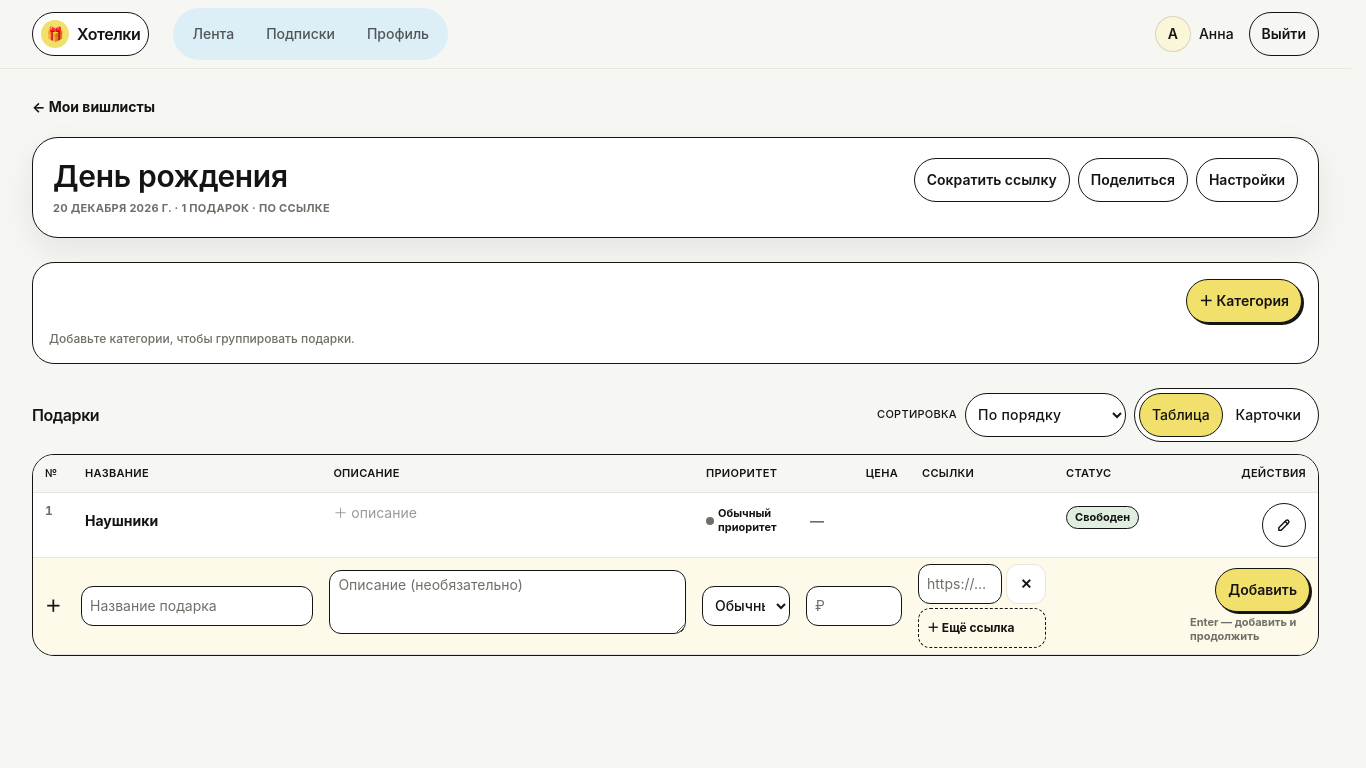
it: иконка редактирования и модалка › удаляет подарок из модалки с подтверждением
This screenshot has width=1366, height=768.
Expected: the text "Наушники" is shown, 85,511 -> 158,531
Click the button named "Редактировать подарок" at (1284, 525), box 1262,503 -> 1306,547
(page scrolled)
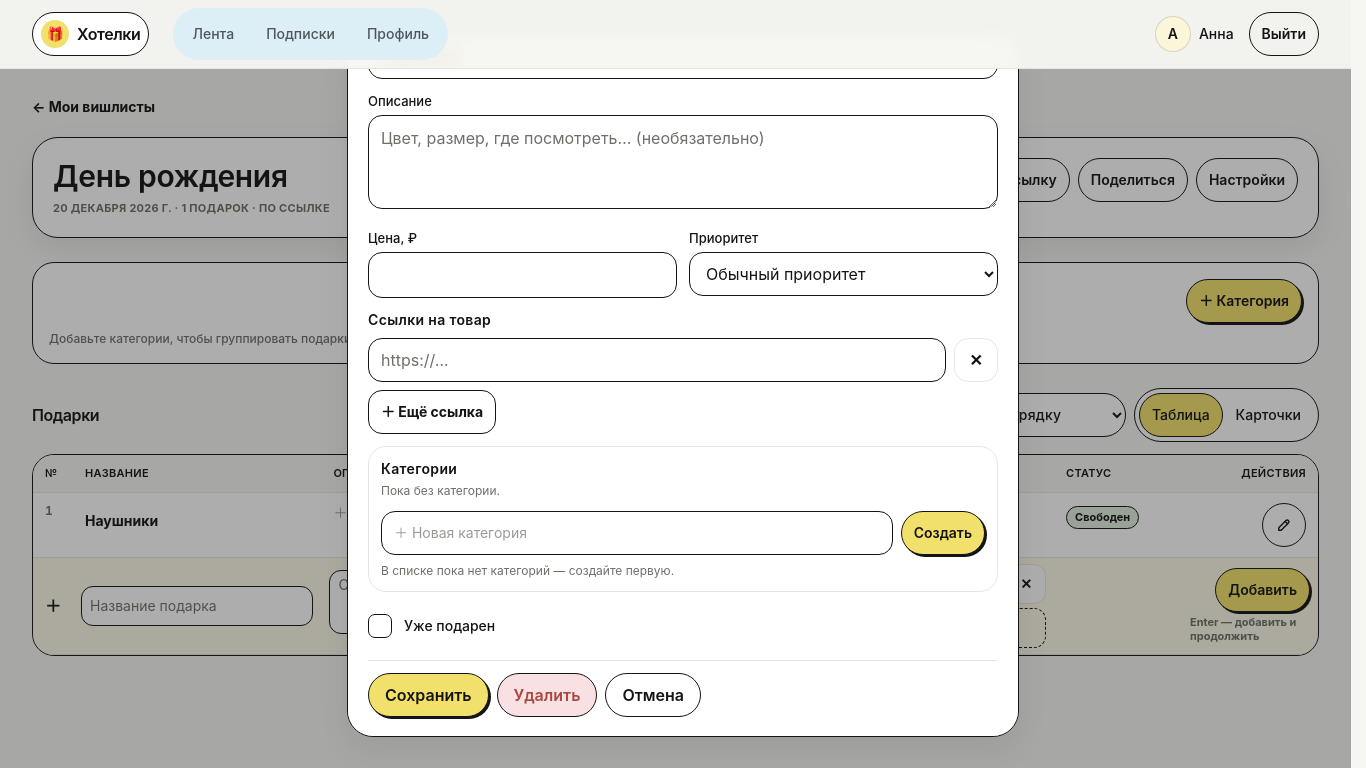
Click the button "Удалить" at (547, 695), box 496,673 -> 597,717
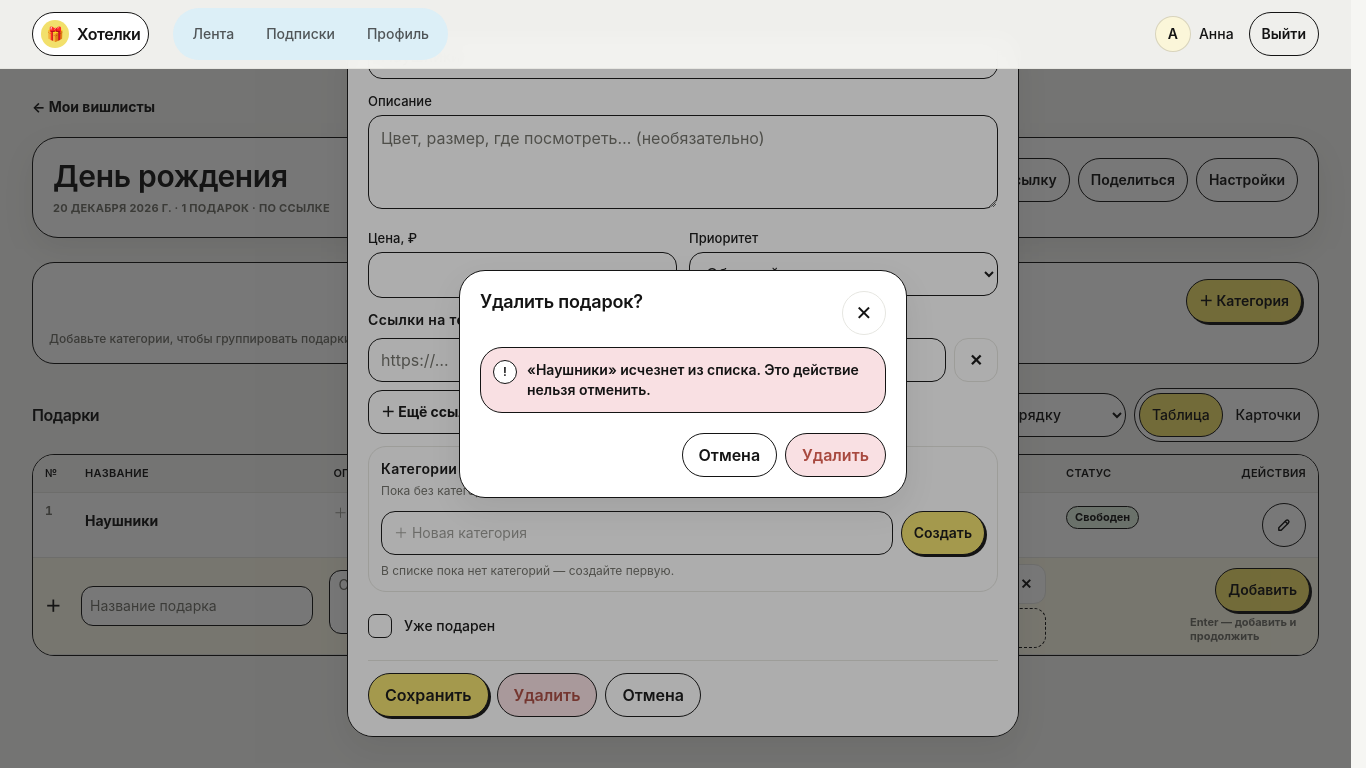
Expected: the text "«Наушники» исчезнет из списка. Это действие нельзя отменить." is shown, 527,360 -> 873,400
Click the button "Удалить" at (836, 455), box 785,433 -> 886,477
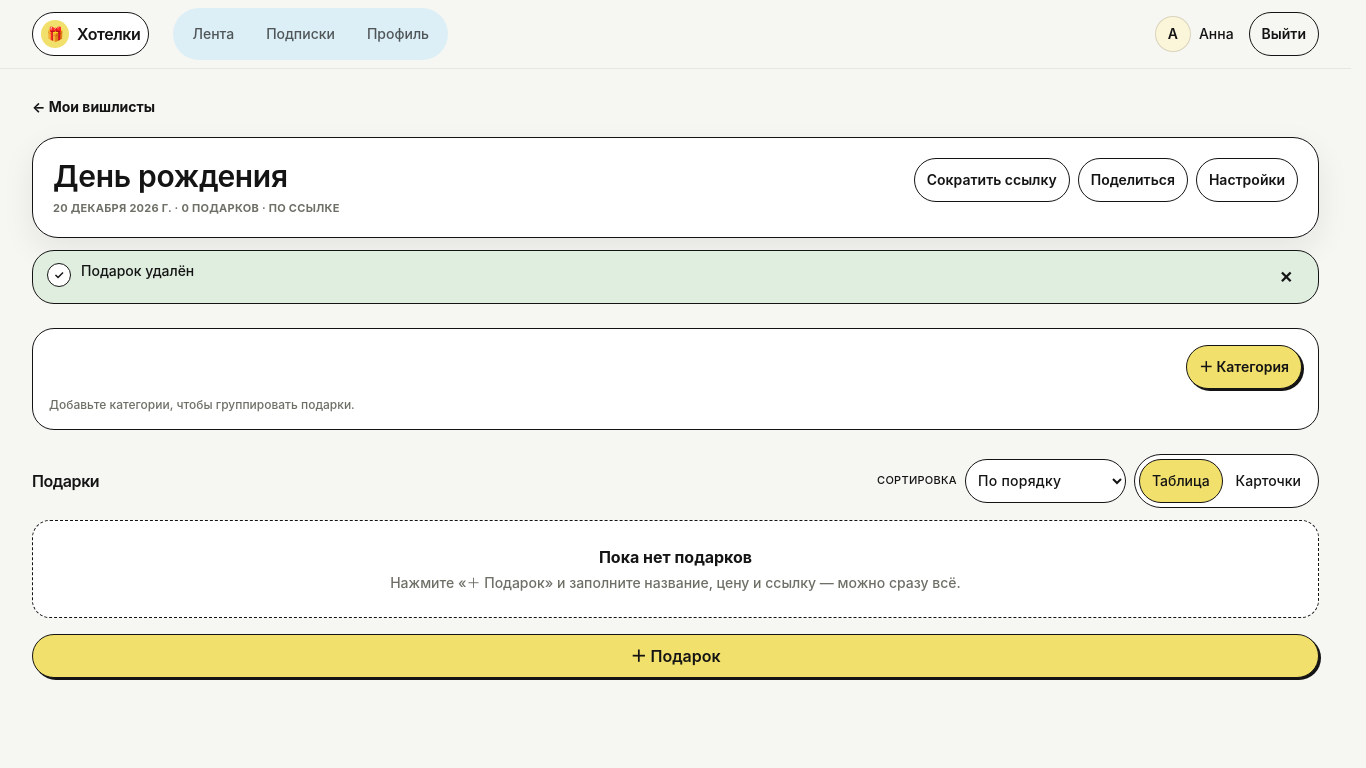
Expected: the text "Подарок удалён" is shown, 81,262 -> 194,278
